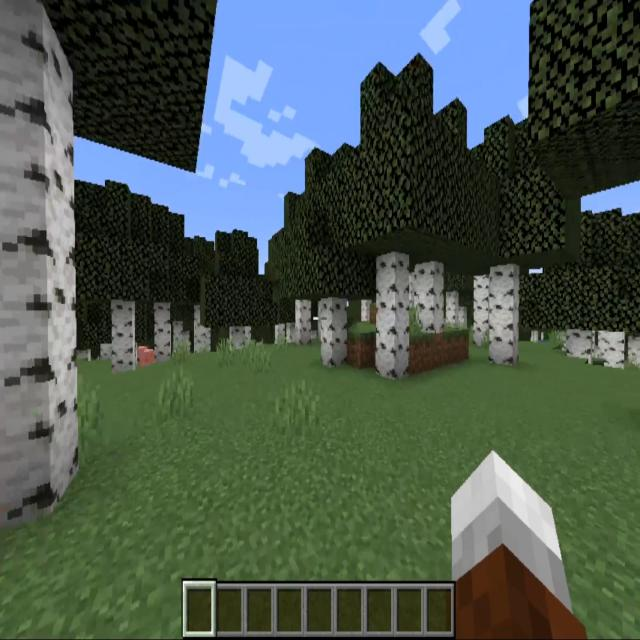Pig: (135, 342, 157, 376)
